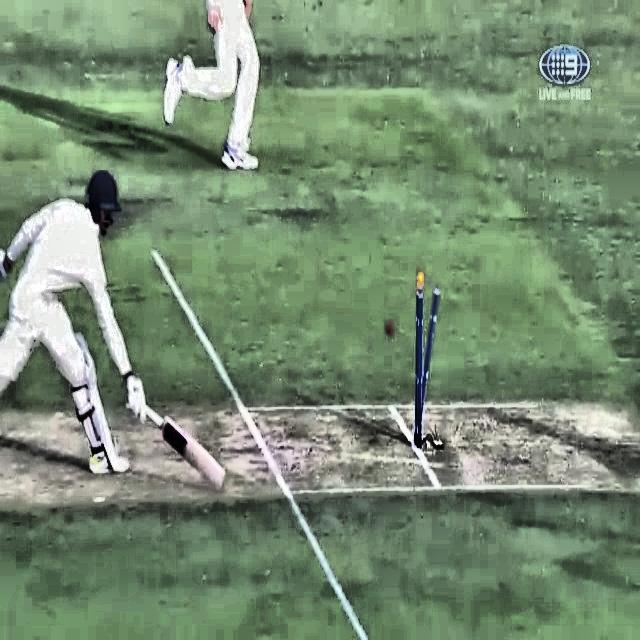Ball: (382, 315, 403, 344)
Bat: (130, 396, 233, 492)
Dis_Wicket: (403, 260, 444, 457)
Pitch_Line: (150, 246, 367, 640)
